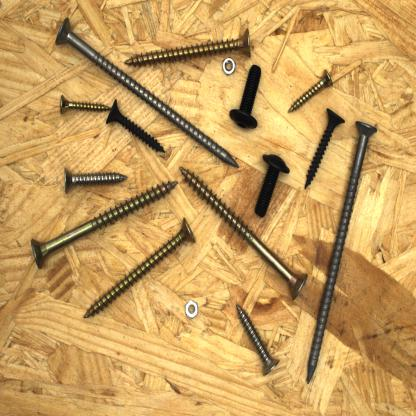screw: (53, 13, 242, 174), (304, 114, 382, 388), (179, 161, 313, 303), (26, 177, 180, 274), (79, 214, 199, 320), (123, 26, 255, 68), (103, 96, 170, 158), (300, 106, 348, 192), (235, 301, 284, 380), (225, 61, 266, 134), (252, 149, 292, 218), (284, 64, 338, 115), (61, 164, 128, 197), (58, 90, 114, 121)
